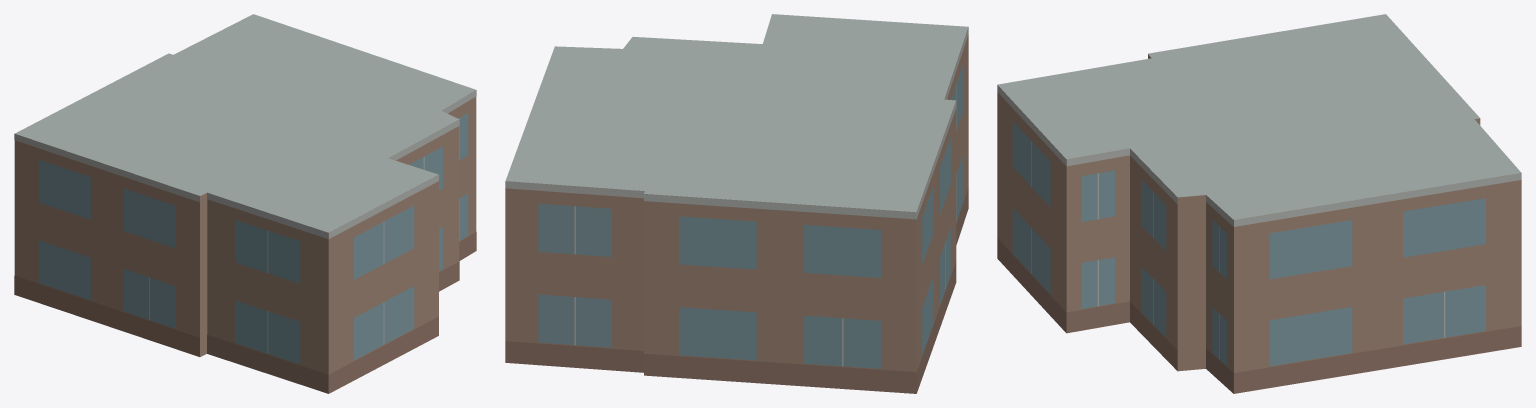
File: survey-upis-32886670.glb
3 views of the same model, side by side, from view 1: azimuth 30°, elevation 25°; view 2: azimuth 150°, elevation 25°; view 3: azimuth 270°, elevation 25° (orthographic). The views are drawn at different scales.
Visible parts, largest first — view 1: survey-upis-32886670.tmp; view 2: survey-upis-32886670.tmp; view 3: survey-upis-32886670.tmp.
Part boxes in pixels (x1=…): survey-upis-32886670.tmp: x1=14, y1=14, x2=476, y2=393; survey-upis-32886670.tmp: x1=505, y1=14, x2=968, y2=393; survey-upis-32886670.tmp: x1=997, y1=14, x2=1521, y2=393.
Size of the model in its own units: 15.52 by 6.1 by 16.69.
